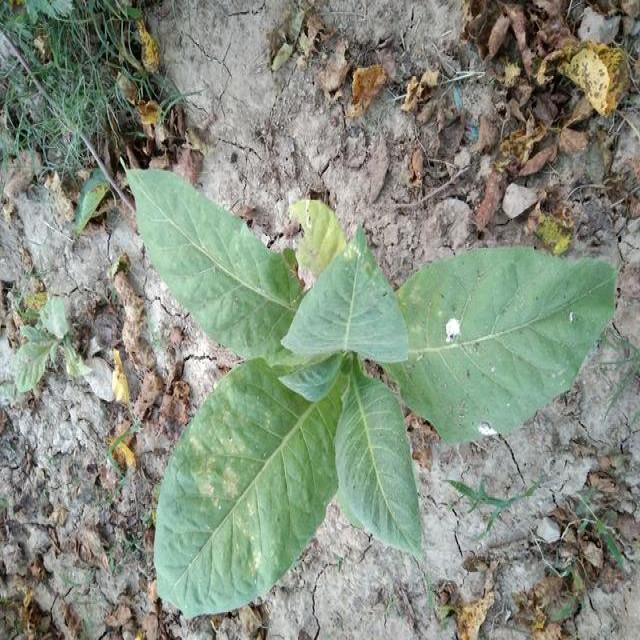crop: (126, 159, 619, 610)
